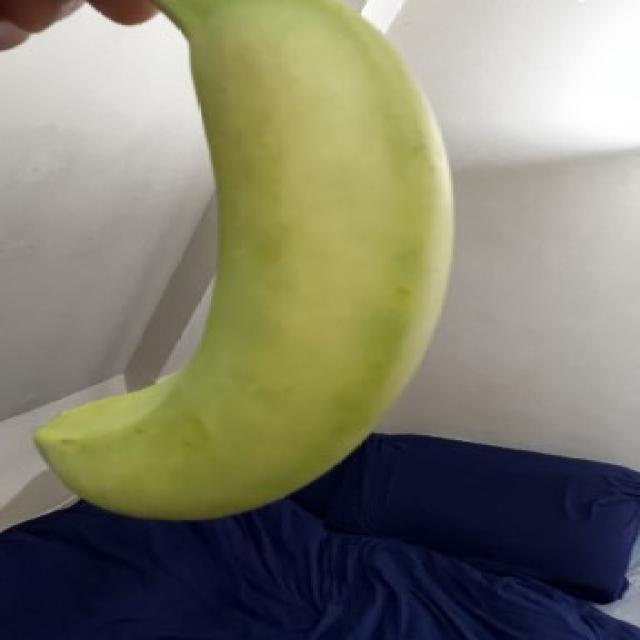Unripe: (11, 0, 464, 532)
